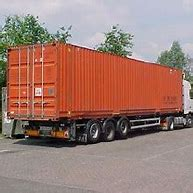bigtruck: (4, 40, 192, 141)
